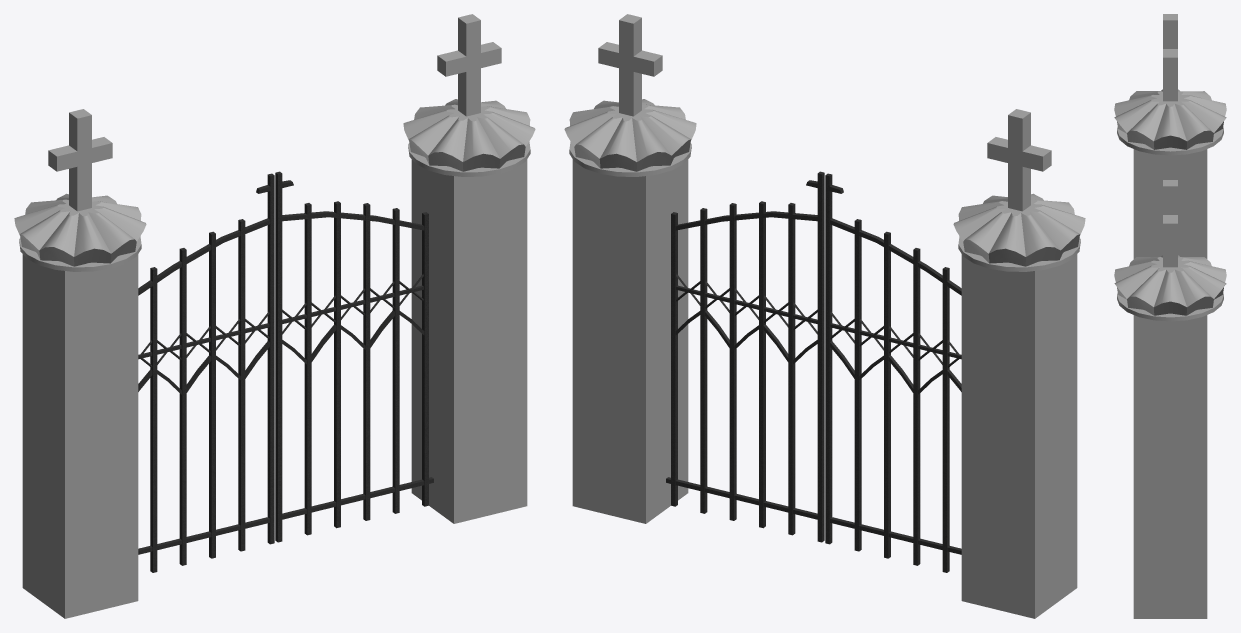
File: gate_exp.fbx
3 views of the same model, side by side, from view 1: azimuth 30°, elevation 25°; view 2: azimuth 150°, elevation 25°; view 3: azimuth 270°, elevation 25° (orthographic). The views are drawn at different scales.
Visible parts, largest first — view 1: pillar_geo, gate_geo; view 2: pillar_geo, gate_geo; view 3: pillar_geo.
Part boxes in pixels (x1,y1,x2,y2): pillar_geo: [14, 14, 535, 618]; gate_geo: [138, 171, 433, 572]; pillar_geo: [564, 14, 1085, 618]; gate_geo: [666, 171, 961, 572]; pillar_geo: [1114, 14, 1226, 618].
Bounding box in the file's own units: 344 × 314 × 76.11.
